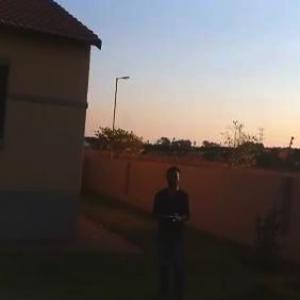follow: (144, 162, 194, 299)
